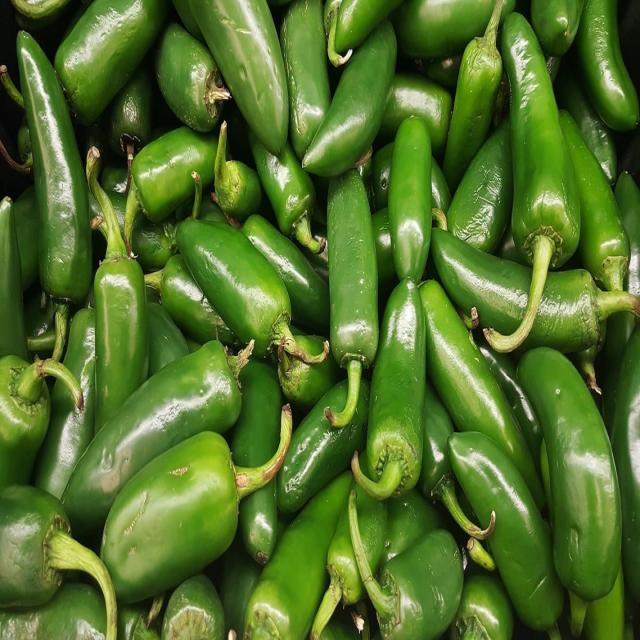aji: (7, 11, 640, 640), (96, 450, 273, 574), (184, 203, 300, 368), (86, 149, 148, 416), (322, 174, 380, 414), (382, 280, 434, 523), (392, 112, 438, 291)
